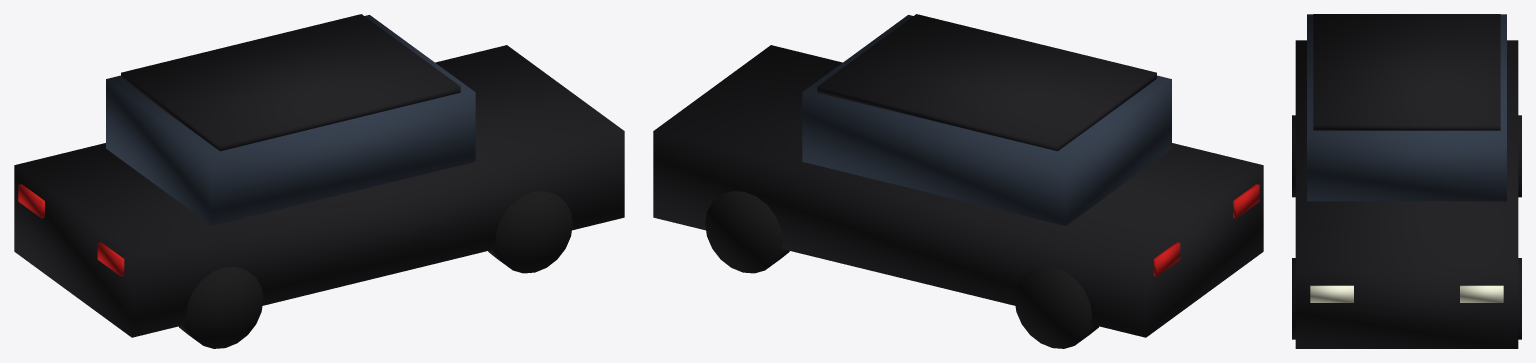
The model's file is traffic_car_black.dae.
3 views of the same model, side by side, from view 1: azimuth 30°, elevation 25°; view 2: azimuth 150°, elevation 25°; view 3: azimuth 270°, elevation 25° (orthographic). The views are drawn at different scales.
Visible parts, largest first — view 1: node0, node1, node2, node3, node5, node8, node10; view 2: node0, node1, node2, node4, node6, node10, node8; view 3: node0, node2, node1, node7, node9, node3, node4, node5, node6.
Part boxes in pixels (bbox=[...]): node0: bbox=[14, 45, 624, 337]; node1: bbox=[106, 15, 475, 225]; node2: bbox=[121, 14, 460, 151]; node3: bbox=[178, 266, 263, 348]; node5: bbox=[488, 191, 572, 273]; node8: bbox=[97, 242, 124, 276]; node10: bbox=[18, 184, 44, 218]; node0: bbox=[653, 45, 1263, 337]; node1: bbox=[802, 15, 1171, 225]; node2: bbox=[817, 14, 1156, 151]; node4: bbox=[1014, 266, 1099, 348]; node6: bbox=[705, 191, 789, 273]; node10: bbox=[1153, 242, 1180, 276]; node8: bbox=[1233, 184, 1259, 218]; node0: bbox=[1295, 40, 1518, 348]; node2: bbox=[1313, 14, 1500, 130]; node1: bbox=[1307, 14, 1506, 201]; node7: bbox=[1310, 285, 1353, 302]; node9: bbox=[1460, 285, 1503, 302]; node3: bbox=[1292, 115, 1295, 197]; node4: bbox=[1518, 115, 1521, 197]; node5: bbox=[1292, 258, 1295, 339]; node6: bbox=[1518, 258, 1521, 339].
Size of the model in its own units: 4.36 by 1.84 by 1.61.
